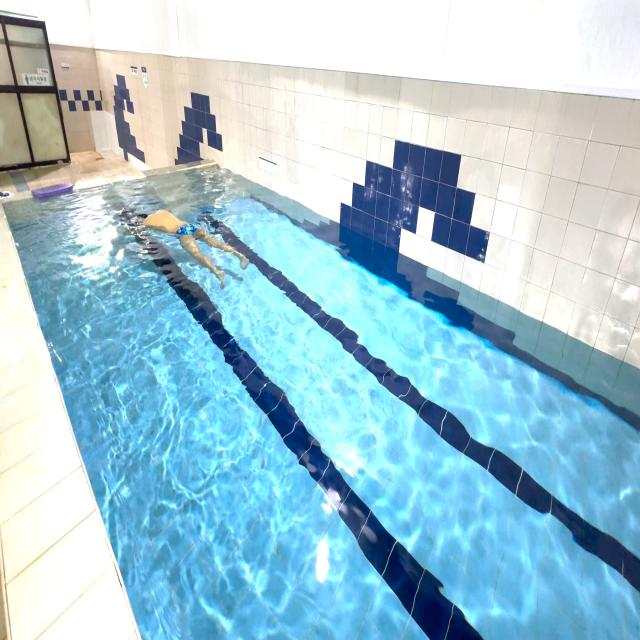Swimming: (122, 193, 254, 293)
